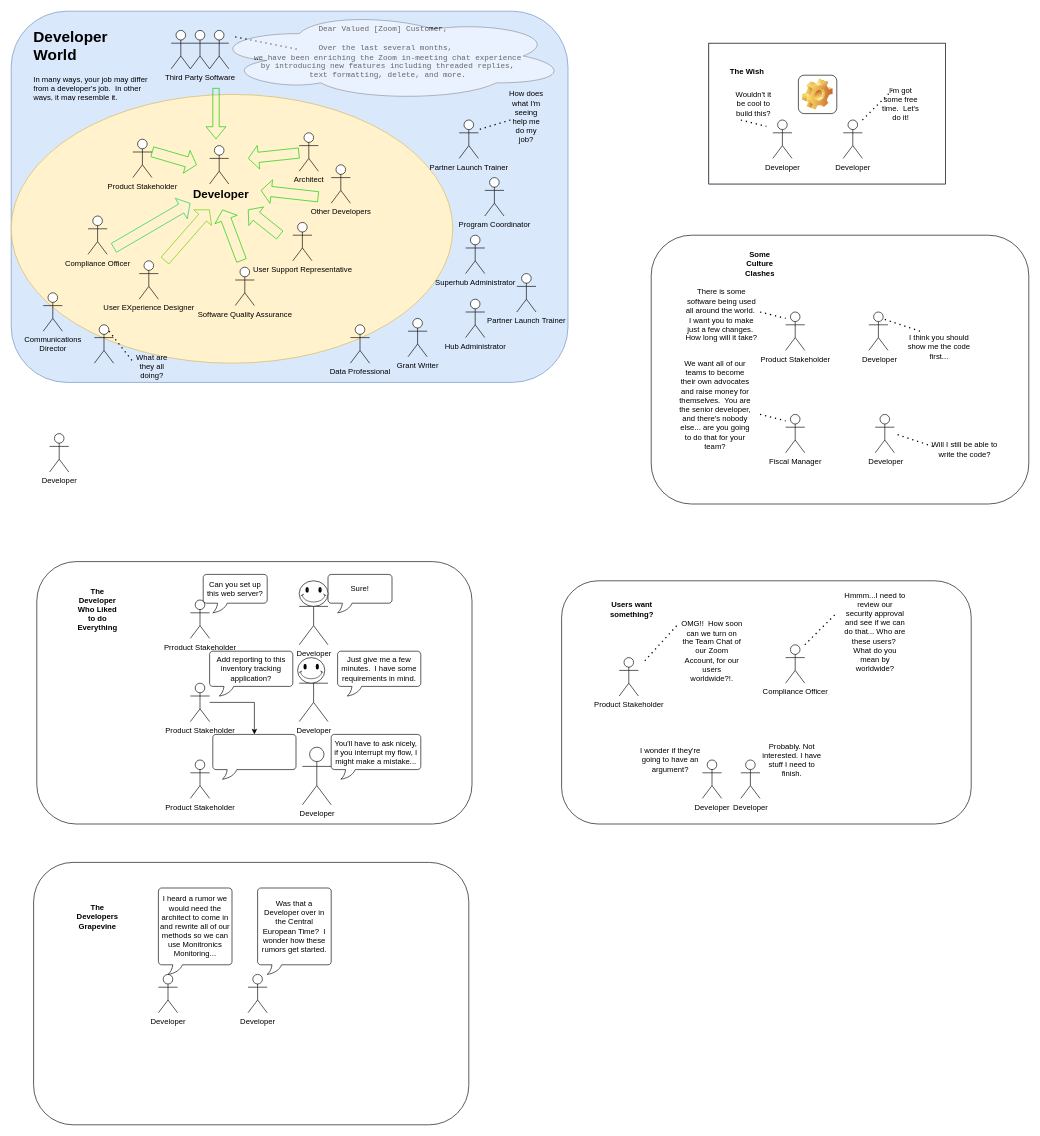
The diagram is 1040 pixels wide and 1136 high, and some of its shapes have lost their labels. The shapes that lost their labels are listed below. From the top down, each one's centre as x and y in pixels, then its label:
At point 817,94: "System".
At point 104,343: "Executive".
At point 254,756: "I need some documentation on the system.".
